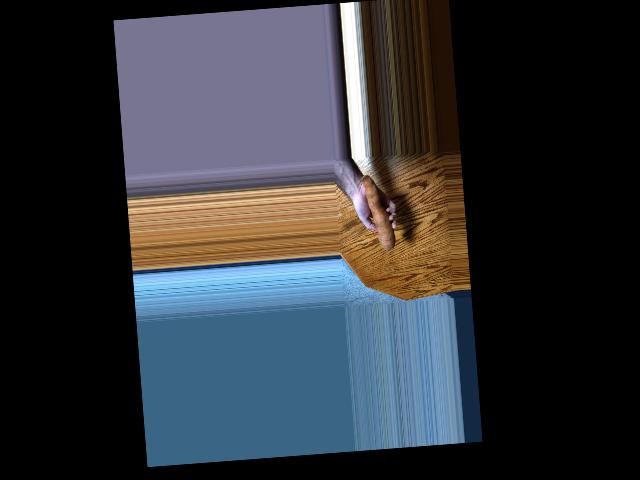sweet_potato: (364, 176, 397, 254)
